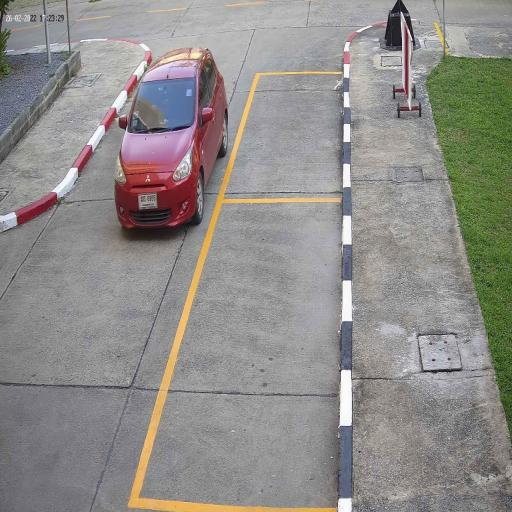car: (114, 44, 230, 233)
